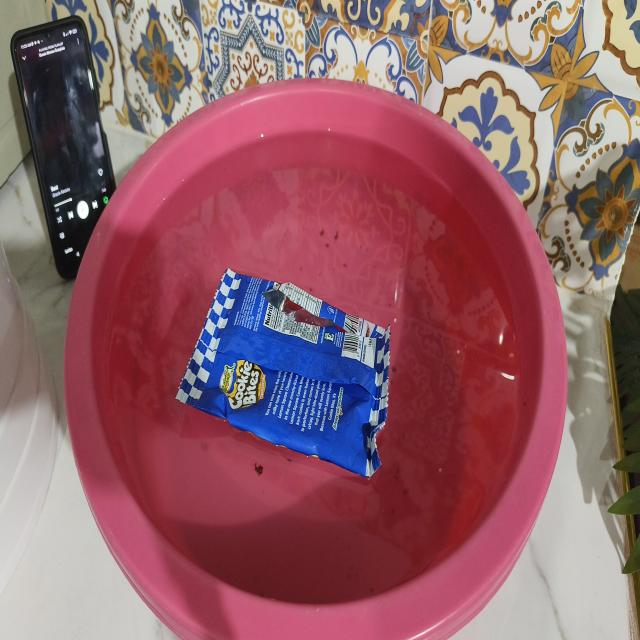Plastic Wrapper: (176, 269, 390, 477)
